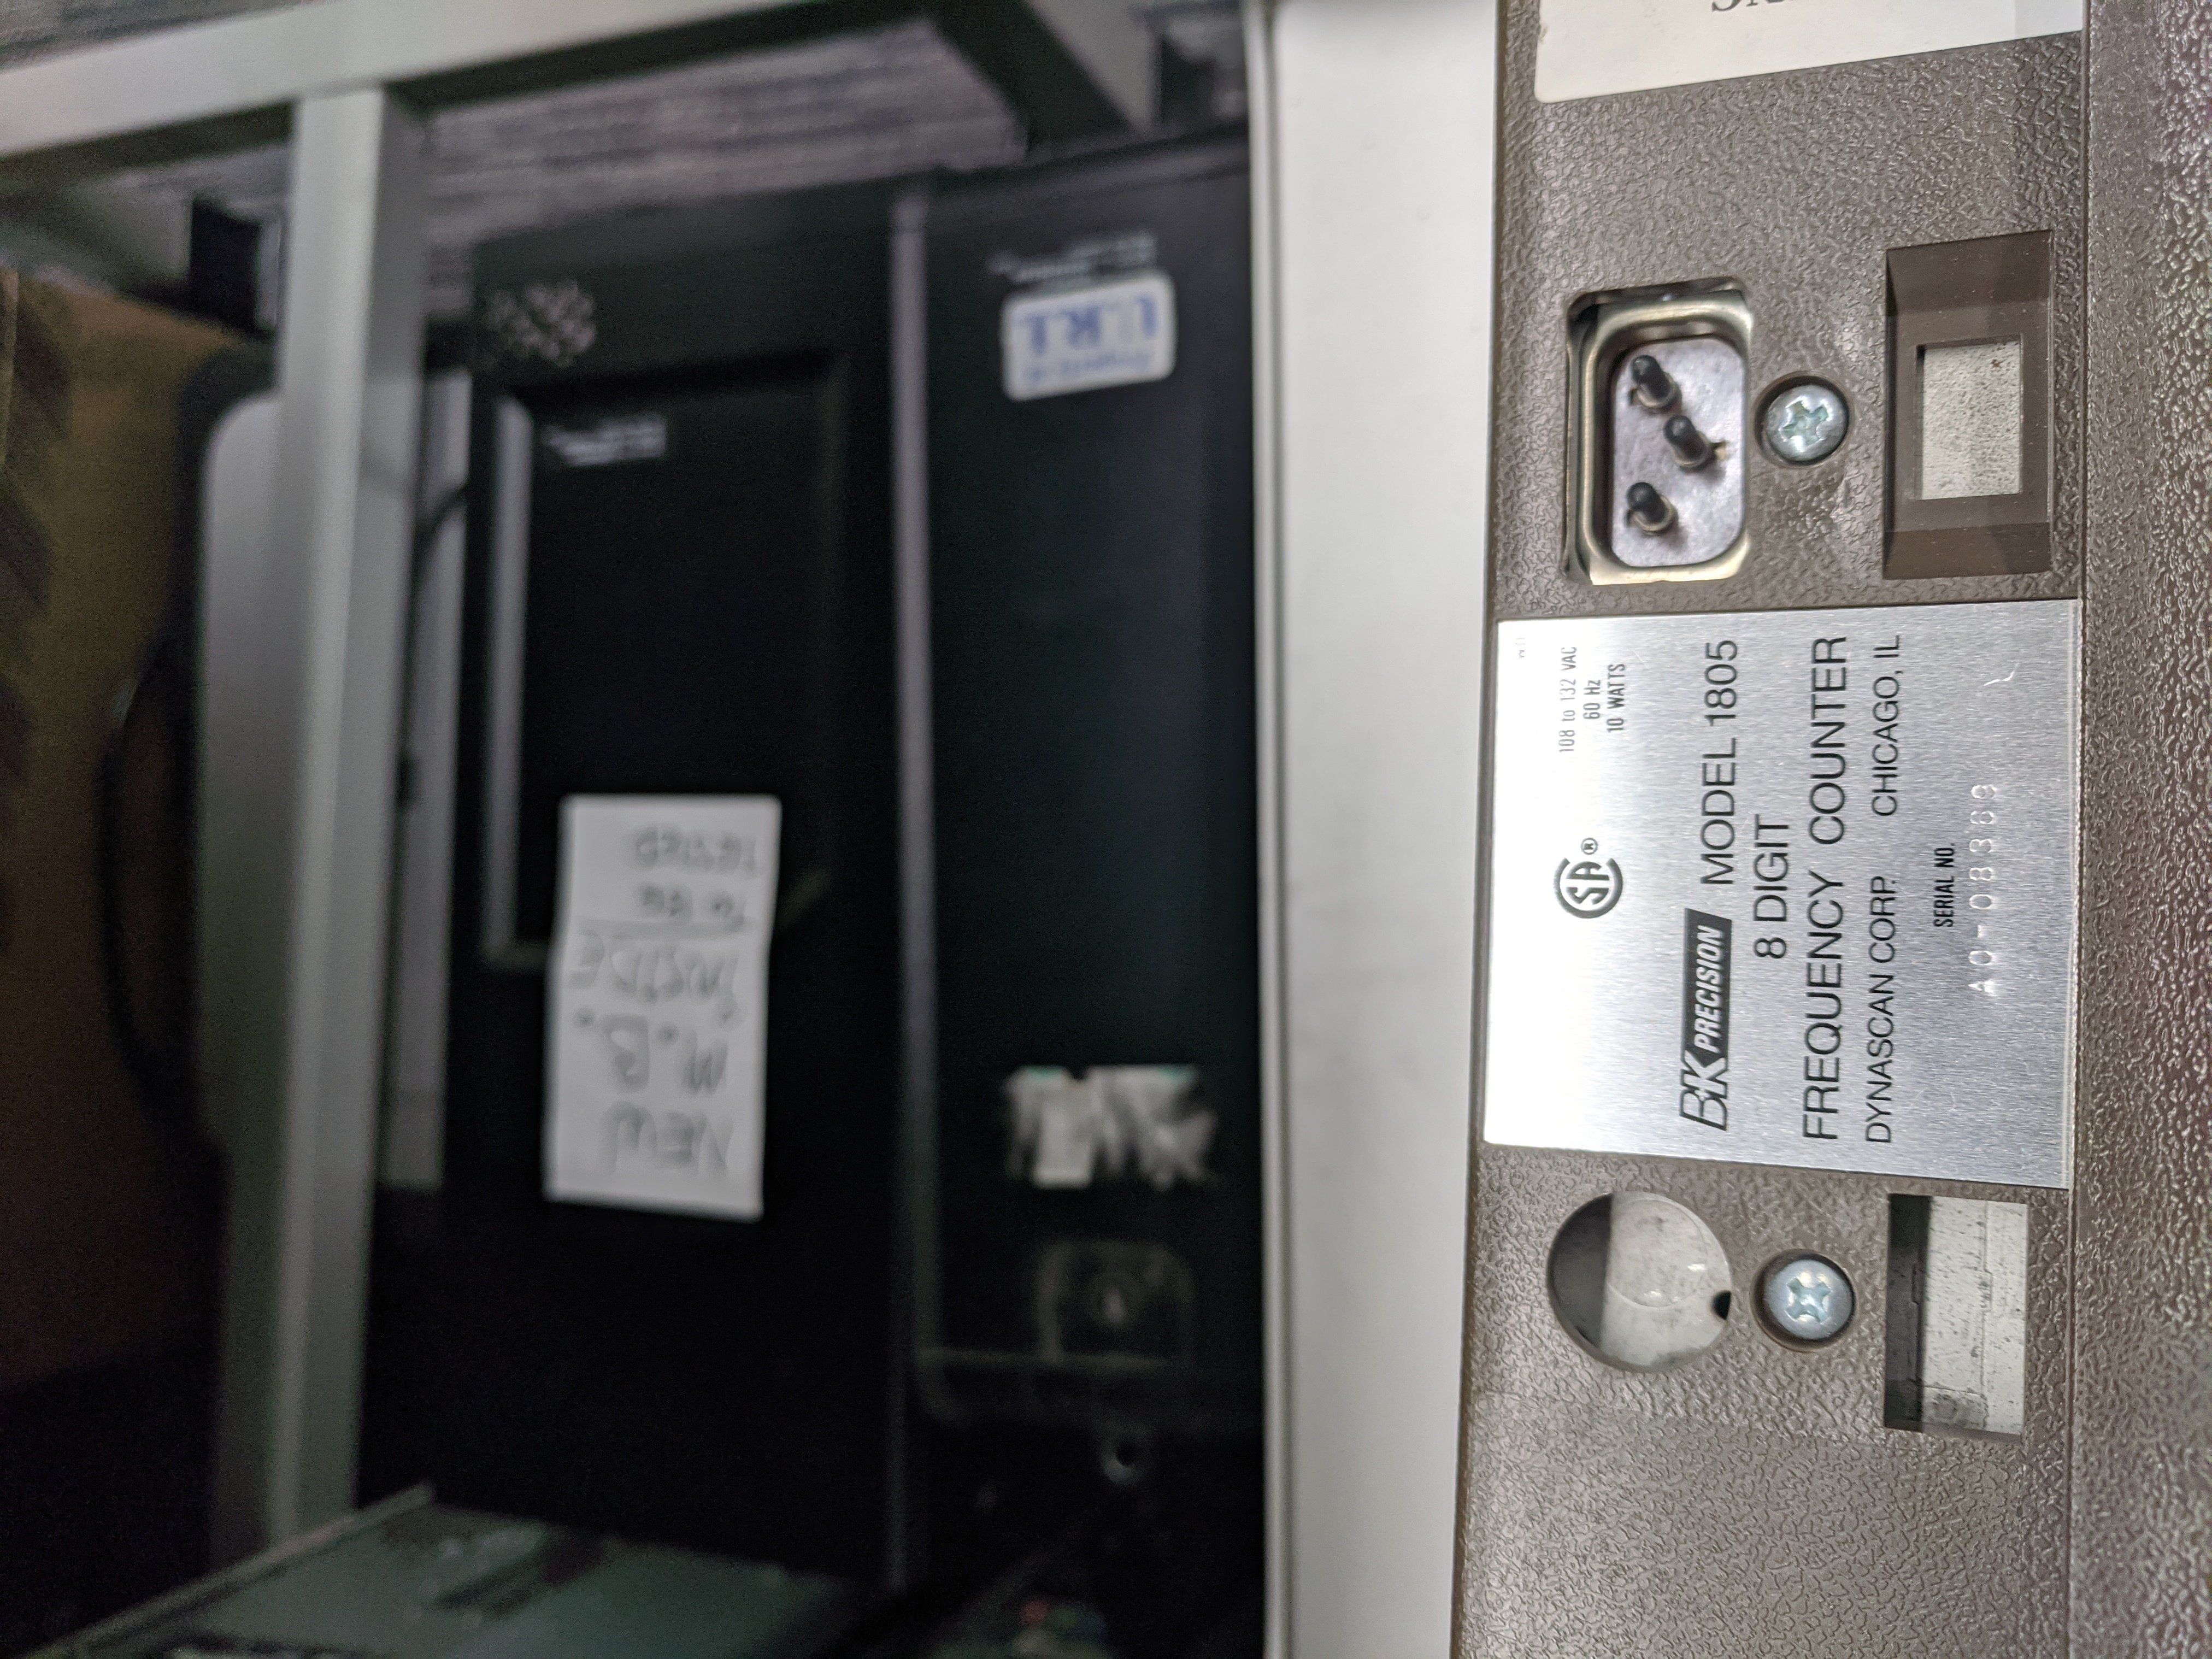cross_recessed_screw: (1757, 1251, 1846, 1351), (1763, 375, 1841, 453)
